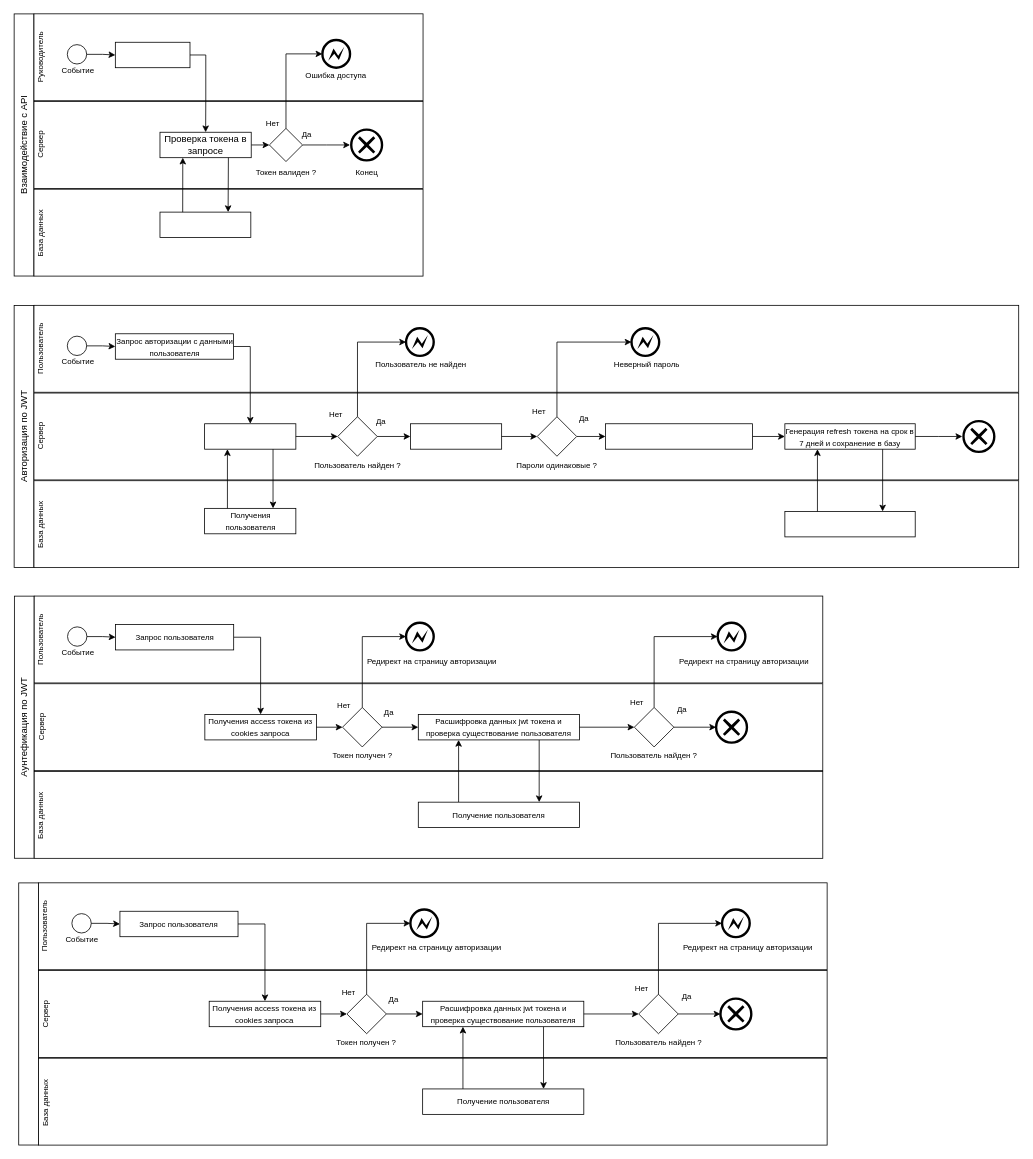
The diagram is 1033 pixels wide and 1159 high, and some of its shapes have lost their labels. The shapes that lost their labels are listed below. From the top down, each one's centre as x and y in pixels, then its label:
At [152,54]: "Запрос по API".
At [205,224]: "Получение ключа из базы".
At [250,436]: "Поиск пользователя по логину или почте".
At [456,436]: "Хэширование пароля из запроса".
At [678,436]: "Генерация access токена на срок 30 минут и добавление в cookies запроса".
At [849,524]: "Сохранение токена в базу".
